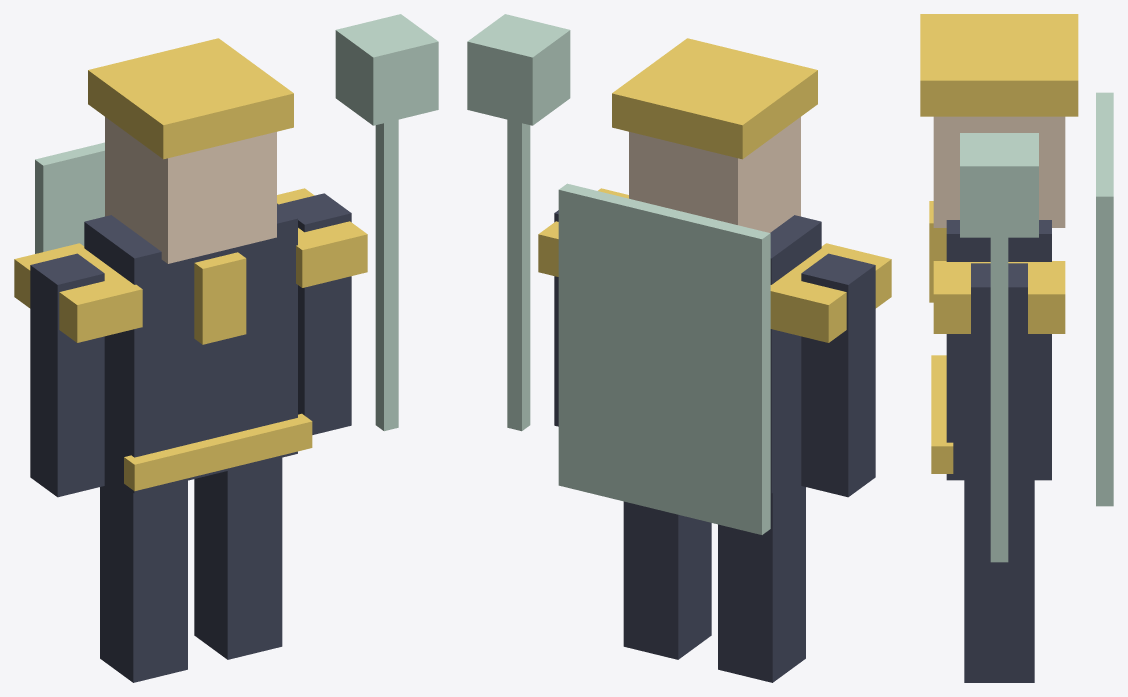
File: 02_talia_gantryn_guide_near_overpass.glb
The picture shows the model from 3 angles, left to right: view 1: azimuth 30°, elevation 25°; view 2: azimuth 150°, elevation 25°; view 3: azimuth 270°, elevation 25°; orthographic projection. The views are drawn at different scales.
Parts seen in each view (by area): view 1: Talia Gantryn, Guide near Overpass; view 2: Talia Gantryn, Guide near Overpass; view 3: Talia Gantryn, Guide near Overpass.
Part boxes in pixels (x1,y1,x2,y2): Talia Gantryn, Guide near Overpass: (14,14,438,682); Talia Gantryn, Guide near Overpass: (467,14,891,682); Talia Gantryn, Guide near Overpass: (920,14,1113,682).
Bounding box in the file's own units: 1.07 × 1.56 × 0.4568.
